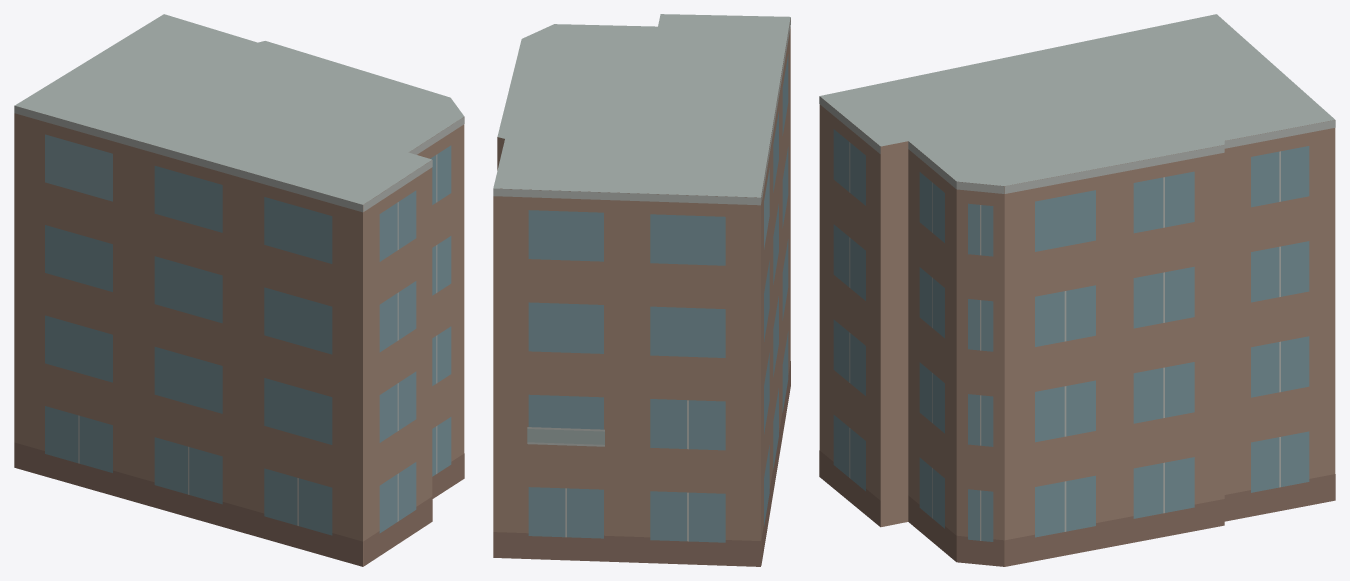
Rendered from survey-upis-32739128.glb.
The picture shows the model from 3 angles, left to right: view 1: azimuth 30°, elevation 25°; view 2: azimuth 150°, elevation 25°; view 3: azimuth 270°, elevation 25°; orthographic projection. The views are drawn at different scales.
Visible parts, largest first — view 1: survey-upis-32739128.tmp; view 2: survey-upis-32739128.tmp; view 3: survey-upis-32739128.tmp.
Boxes of the visible parts, bbox=[...] form: survey-upis-32739128.tmp: bbox=[14, 14, 464, 566]; survey-upis-32739128.tmp: bbox=[493, 14, 790, 566]; survey-upis-32739128.tmp: bbox=[819, 14, 1335, 566].
Bounding box in the file's own units: 11.36 × 11.7 × 14.38.
